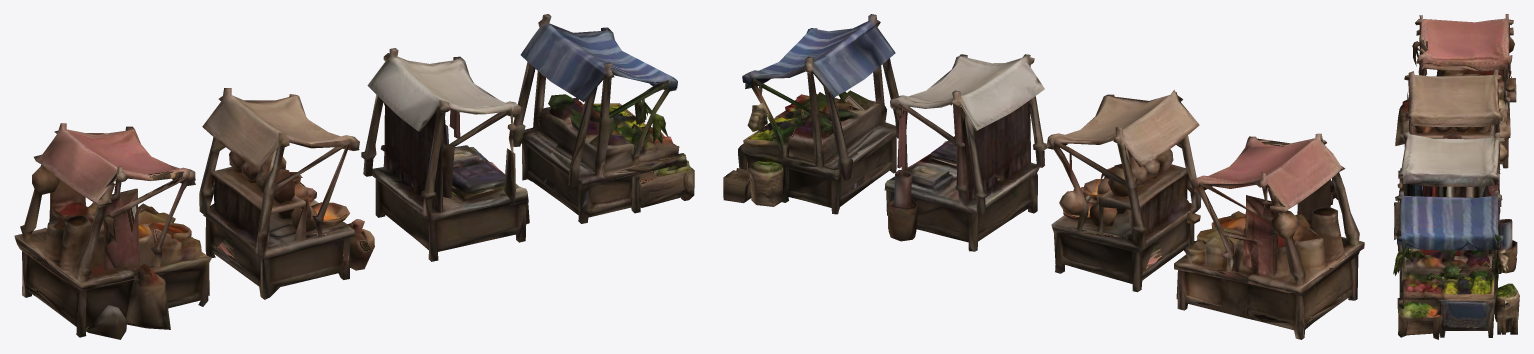
File: market_stalls.glb
3 renders of one model, left to right at view 1: azimuth 30°, elevation 25°; view 2: azimuth 150°, elevation 25°; view 3: azimuth 270°, elevation 25°, orthographic. The views are drawn at different scales.
Visible parts, largest first — view 1: stall_spice, stall_produce, stall_pottery, stall_cloth; view 2: stall_spice, stall_produce, stall_cloth, stall_pottery; view 3: stall_produce, stall_cloth, stall_spice, stall_pottery.
Part boxes in pixels (box(x1,y1,x2,y2)): stall_spice: box(14, 123, 211, 339); stall_produce: box(513, 14, 694, 223); stall_pottery: box(199, 88, 374, 299); stall_cloth: box(361, 48, 529, 261); stall_spice: box(1174, 133, 1364, 339); stall_produce: box(723, 14, 902, 214); stall_cloth: box(884, 54, 1046, 251); stall_pottery: box(1046, 90, 1201, 292); stall_produce: box(1393, 190, 1519, 339); stall_cloth: box(1394, 131, 1517, 272); stall_spice: box(1395, 14, 1516, 168); stall_pottery: box(1404, 69, 1507, 161).
Size of the model in its own units: 1 by 0.2607 by 0.2422.
1 material, 1 textured.
